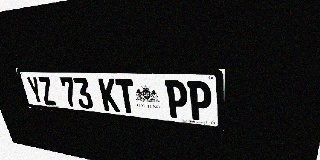3: (73, 78, 94, 109)
7: (59, 77, 80, 108)
K: (98, 78, 120, 112)
P: (187, 81, 212, 122), (165, 80, 189, 119)
T: (115, 79, 137, 114)
Y: (25, 76, 45, 104)
Z: (37, 77, 57, 106)
